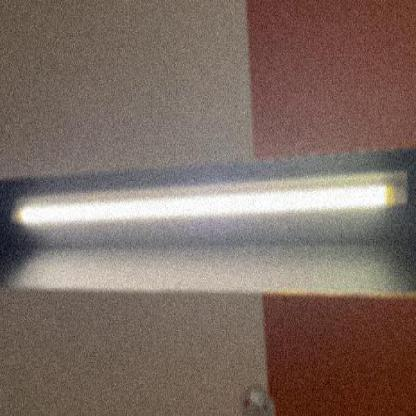light_on: (3, 159, 415, 242)
